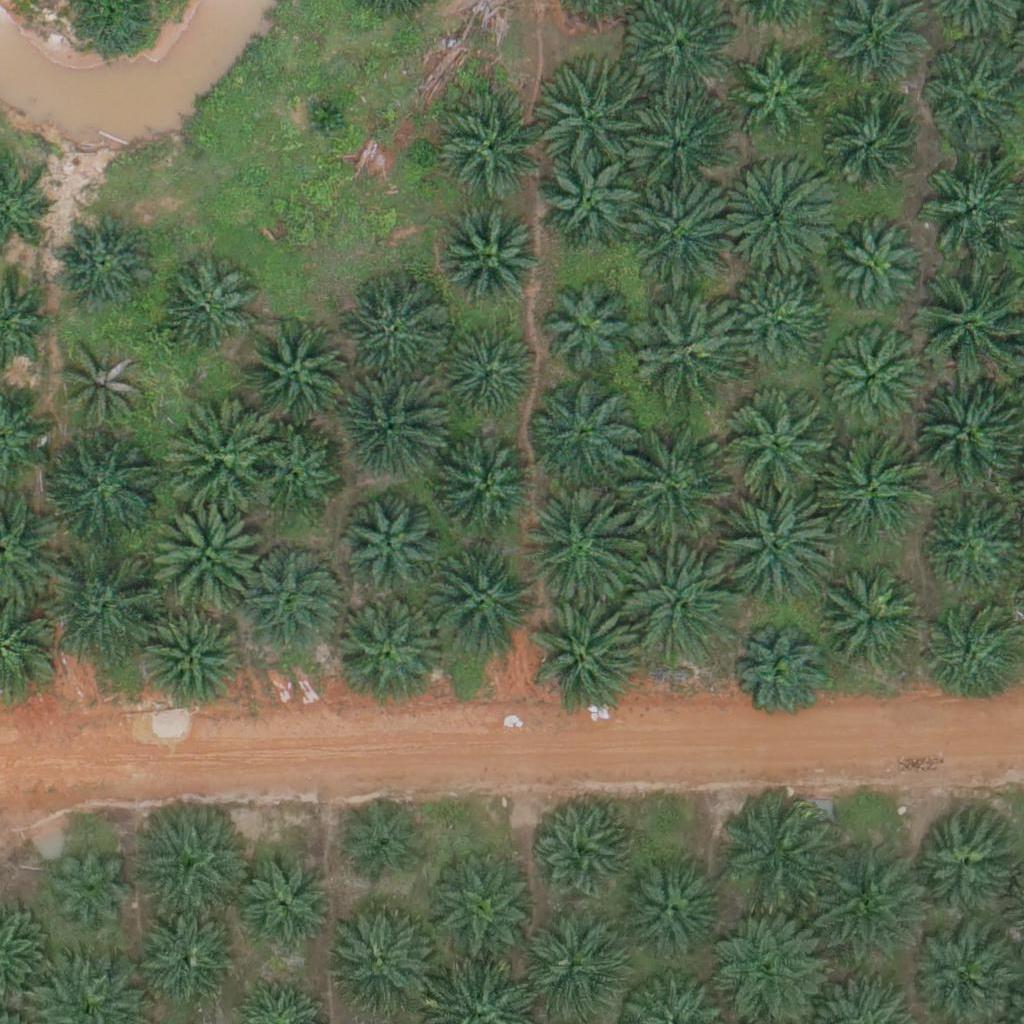Kelapa_Sawit: (719, 159, 832, 273), (628, 175, 741, 289), (622, 552, 735, 666), (519, 492, 632, 606), (335, 593, 448, 707), (422, 545, 535, 659), (802, 853, 915, 966), (716, 802, 829, 915), (317, 906, 430, 1019), (814, 433, 927, 546), (724, 394, 837, 507), (633, 293, 746, 406), (334, 372, 447, 485), (907, 807, 1019, 921), (422, 851, 534, 965), (134, 800, 246, 914), (526, 376, 638, 490), (816, 570, 928, 683), (726, 491, 838, 604), (615, 426, 727, 539), (531, 603, 643, 716), (537, 53, 649, 166), (239, 316, 351, 429), (162, 399, 274, 512), (149, 497, 261, 610), (51, 552, 163, 665), (47, 431, 159, 544), (625, 854, 725, 955), (136, 912, 236, 1013), (920, 46, 1020, 147), (921, 608, 1021, 709), (821, 331, 921, 432), (727, 46, 827, 147), (538, 281, 638, 382), (539, 151, 639, 252), (340, 502, 440, 603), (241, 546, 341, 647), (155, 257, 255, 358), (519, 918, 619, 1018), (530, 801, 630, 901), (235, 847, 335, 947), (818, 105, 918, 205), (729, 278, 829, 378), (629, 94, 729, 194), (440, 102, 540, 202), (441, 211, 541, 311), (441, 327, 541, 427), (437, 443, 537, 543), (343, 287, 443, 387), (140, 609, 240, 709), (52, 212, 152, 312), (831, 225, 919, 314), (339, 797, 427, 885), (251, 430, 339, 518), (51, 845, 138, 933), (734, 632, 821, 720), (61, 343, 148, 431), (298, 89, 348, 140)
